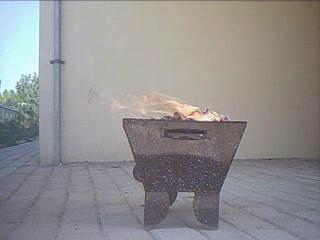fire: (102, 90, 223, 124)
